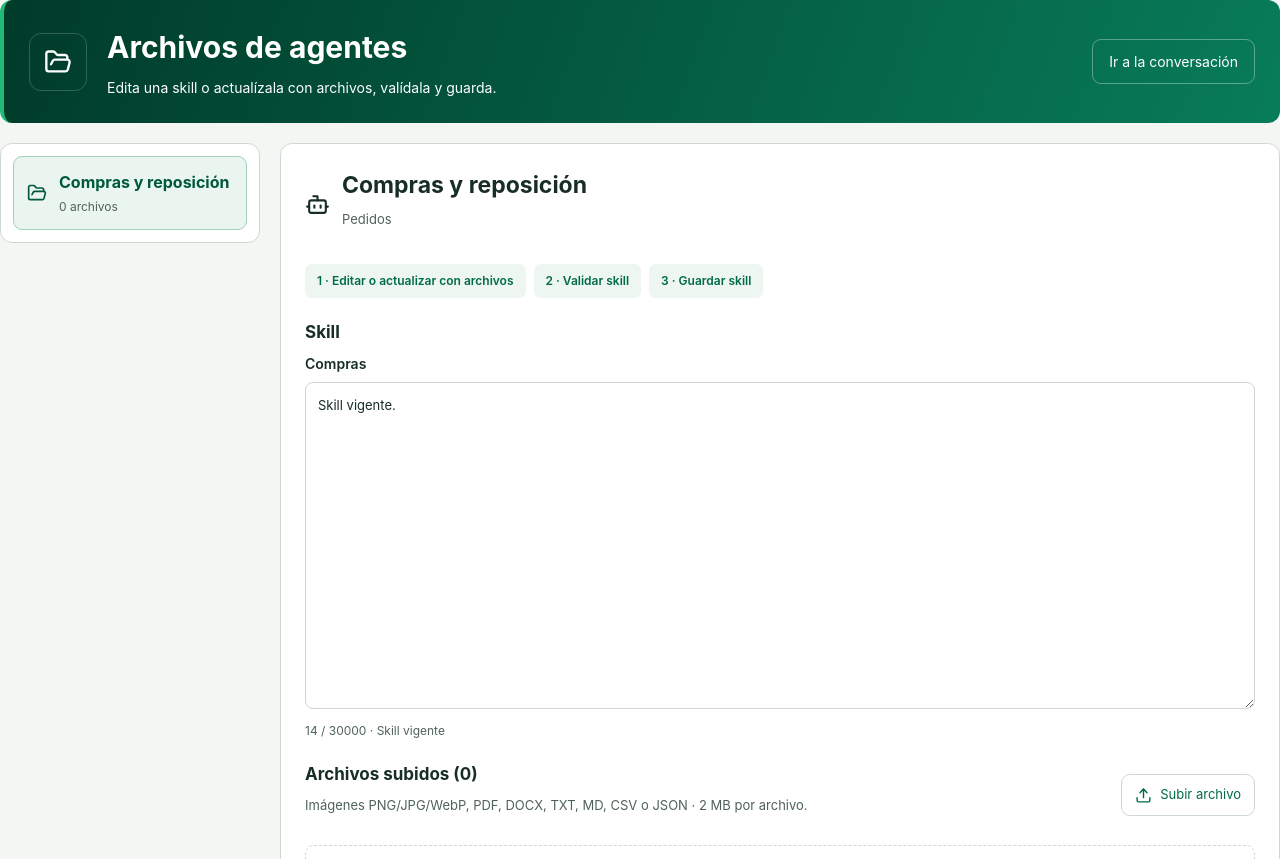
Test: requires independent validation before saving edited skills and sends no permissions
Replace the text in the text box named "Skill Compras" with "Consultar plazos reales." at [780, 545], box [305,382,1255,708]
(page scrolled)
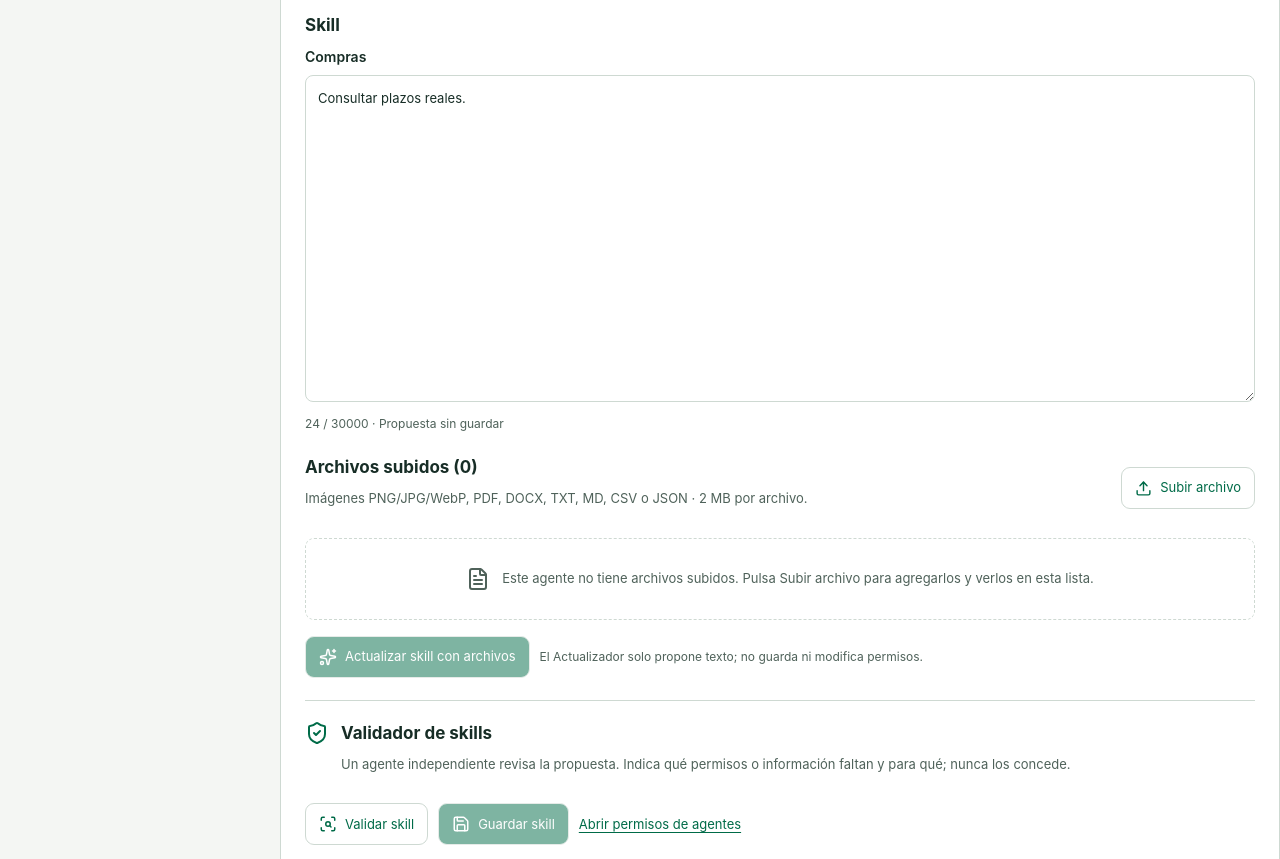
Check: the button "Guardar skill" is disabled, box [438,803,569,845]
Click the button "Validar skill" at [367, 824], box [305,803,428,845]
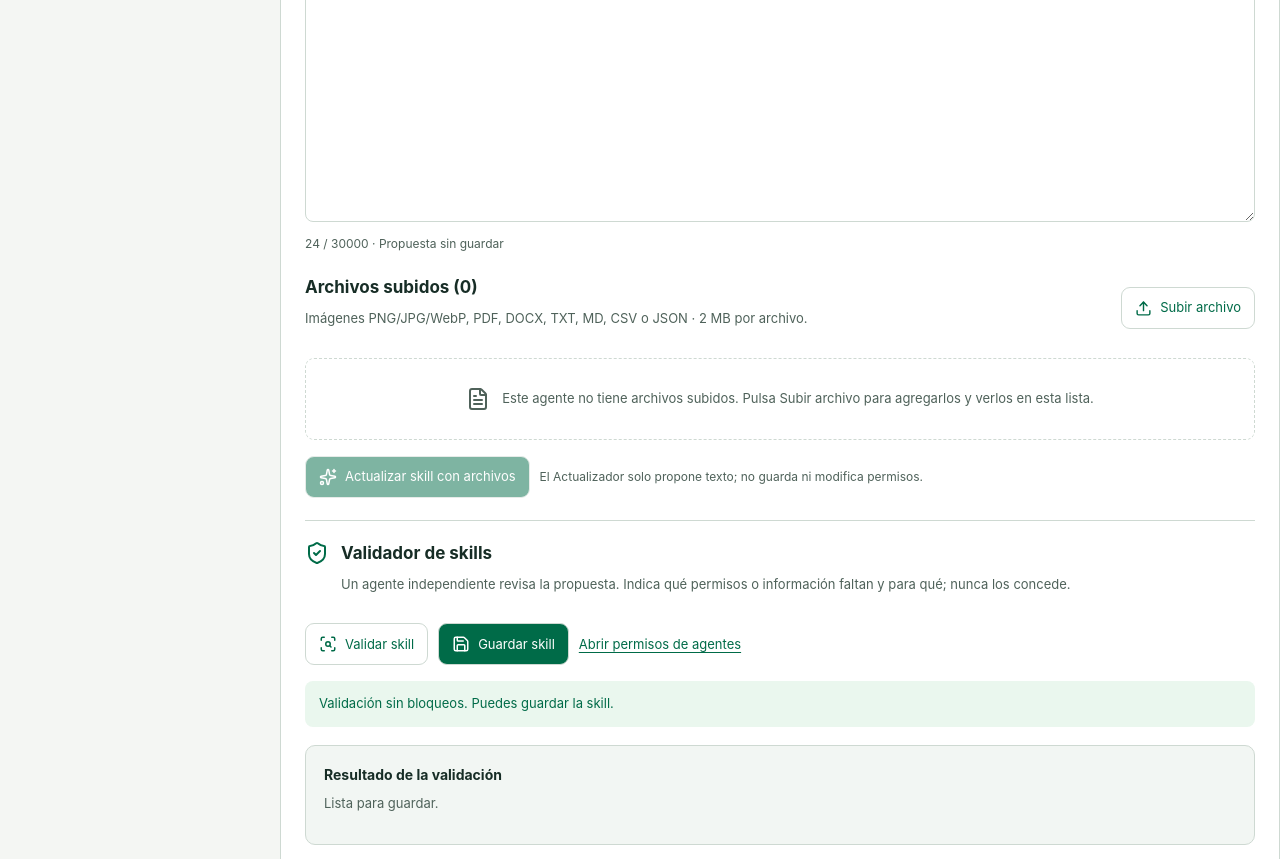
Check: the text "Lista para guardar." is shown, box [324,795,439,811]
Click the button "Guardar skill" at [504, 644], box [438,623,569,665]
(page scrolled)
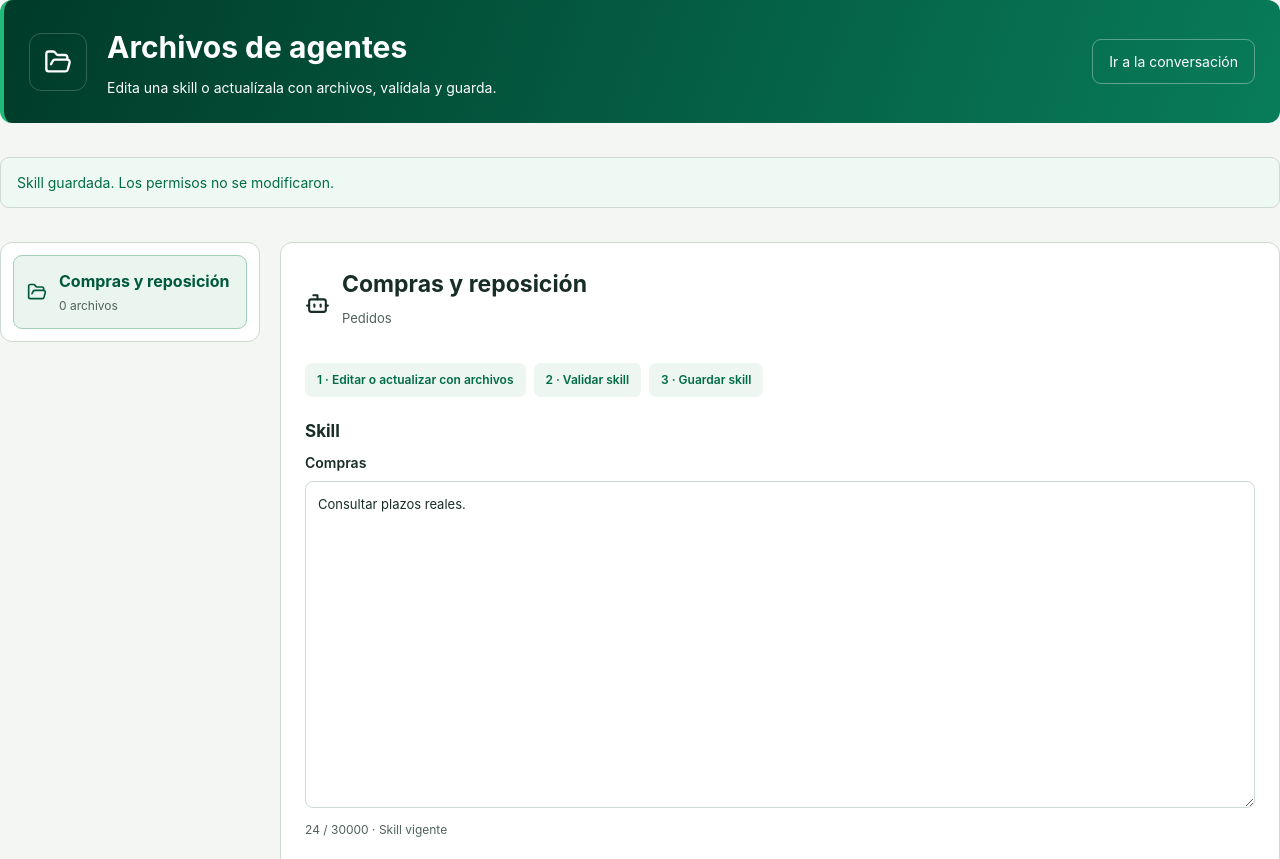
Check: the text "Skill guardada. Los permisos no se modificaron." is shown, box [0,157,1279,208]
